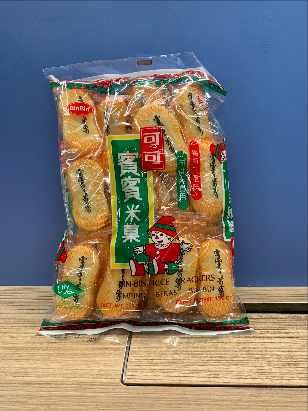Crackers_100-199g: (63, 76, 226, 308)
